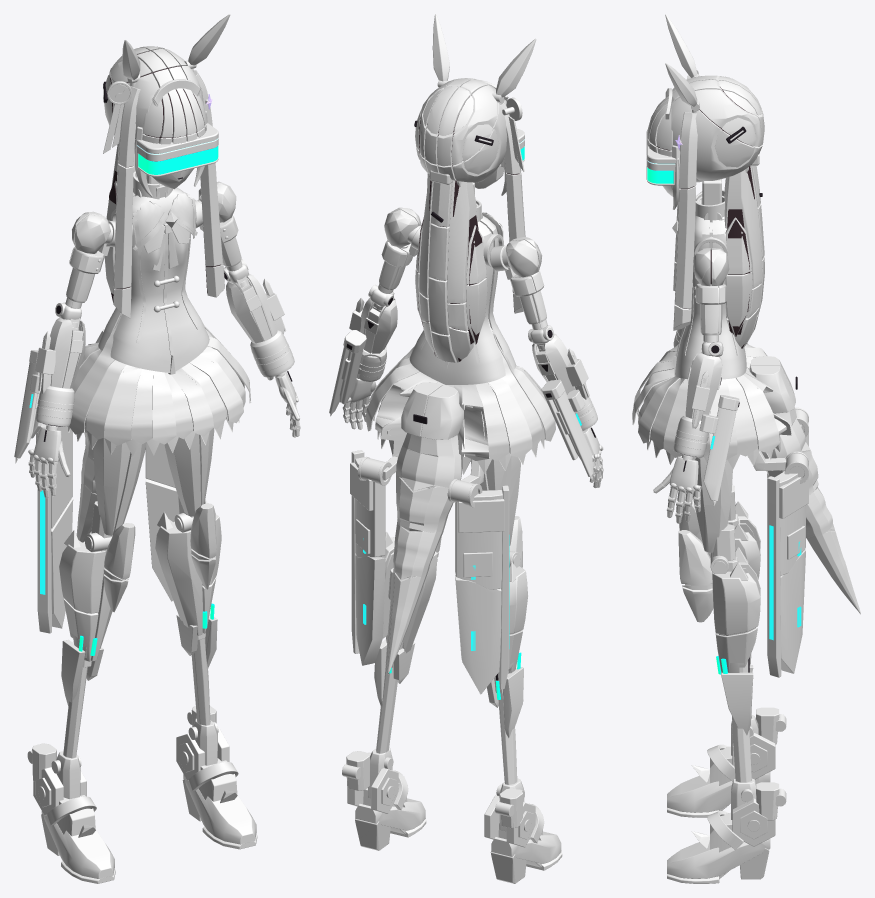
The model's file is suzuka.glb.
3 views of the same model, side by side, from view 1: azimuth 30°, elevation 25°; view 2: azimuth 150°, elevation 25°; view 3: azimuth 270°, elevation 25° (orthographic). The views are drawn at different scales.
Visible parts, largest first — view 1: Shirt_FrontR, Hair_Side_R, Leg_ShinOuter_R, Leg_Thigh_R, Leg_ShinInner_L, Shirt_FrontL, Hair_BackShell, Hair_Bangs, Leg_Thigh_L, Hair_Side_L, Shoe_Upper_L, Shoe_Upper_R (+49 smaller); view 2: Hair_BackShell, Gear_WaistPanelB_R, Hair_Back_MR, Shirt_Back, Hair_Back_C, Tail_Seg1, Gear_WaistPanelB_L, Gear_WaistBase, Tail_Seg2, Gear_WaistPanelA_R, Tail_Seg3, Tail_Seg4 (+43 smaller); view 3: Hair_BackShell, Leg_ShinOuter_L, Hair_Side_L, Hair_Back_ML, Shoe_Upper_L, Gear_WaistFrame_L, Leg_KneeShield_L, Gear_WaistPanelB_L, Hair_Back_OL, Leg_Thigh_L, Shoe_Upper_R, Shirt_FrontL (+42 smaller).
Part boxes in pixels (box(x1,y1,x2,y2)): Shirt_FrontR: box(110, 195, 171, 372); Hair_Side_R: box(113, 86, 140, 318); Leg_ShinOuter_R: box(59, 540, 105, 661); Leg_Thigh_R: box(93, 438, 146, 535); Leg_ShinInner_L: box(155, 519, 202, 635); Shirt_FrontL: box(162, 188, 209, 371); Hair_BackShell: box(104, 46, 203, 154); Hair_Bangs: box(142, 88, 206, 144); Leg_Thigh_L: box(164, 428, 214, 516); Hair_Side_L: box(194, 70, 224, 297); Shoe_Upper_L: box(183, 774, 256, 844); Shoe_Upper_R: box(41, 811, 114, 878); Hair_BackShell: box(415, 78, 507, 182); Gear_WaistPanelB_R: box(455, 575, 501, 694); Hair_Back_MR: box(447, 180, 477, 362); Shirt_Back: box(409, 221, 505, 384); Hair_Back_C: box(428, 182, 456, 362); Tail_Seg1: box(396, 433, 461, 490); Gear_WaistPanelB_L: box(355, 555, 385, 665); Gear_WaistBase: box(401, 382, 463, 439); Tail_Seg2: box(396, 475, 453, 533); Gear_WaistPanelA_R: box(455, 490, 502, 589); Tail_Seg3: box(393, 523, 442, 579); Tail_Seg4: box(387, 570, 426, 674); Hair_BackShell: box(671, 75, 764, 180); Leg_ShinOuter_L: box(712, 571, 760, 672); Hair_Side_L: box(673, 112, 697, 330); Hair_Back_ML: box(724, 165, 762, 348); Shoe_Upper_L: box(667, 838, 770, 878); Gear_WaistFrame_L: box(767, 476, 781, 677); Leg_KneeShield_L: box(678, 530, 713, 622); Gear_WaistPanelB_L: box(780, 550, 805, 673); Hair_Back_OL: box(725, 217, 752, 336); Leg_Thigh_L: box(693, 457, 732, 552); Shoe_Upper_R: box(667, 772, 770, 812); Shirt_FrontL: box(675, 216, 709, 378).
Size of the model in its own units: 5.79 by 16.97 by 4.38.
